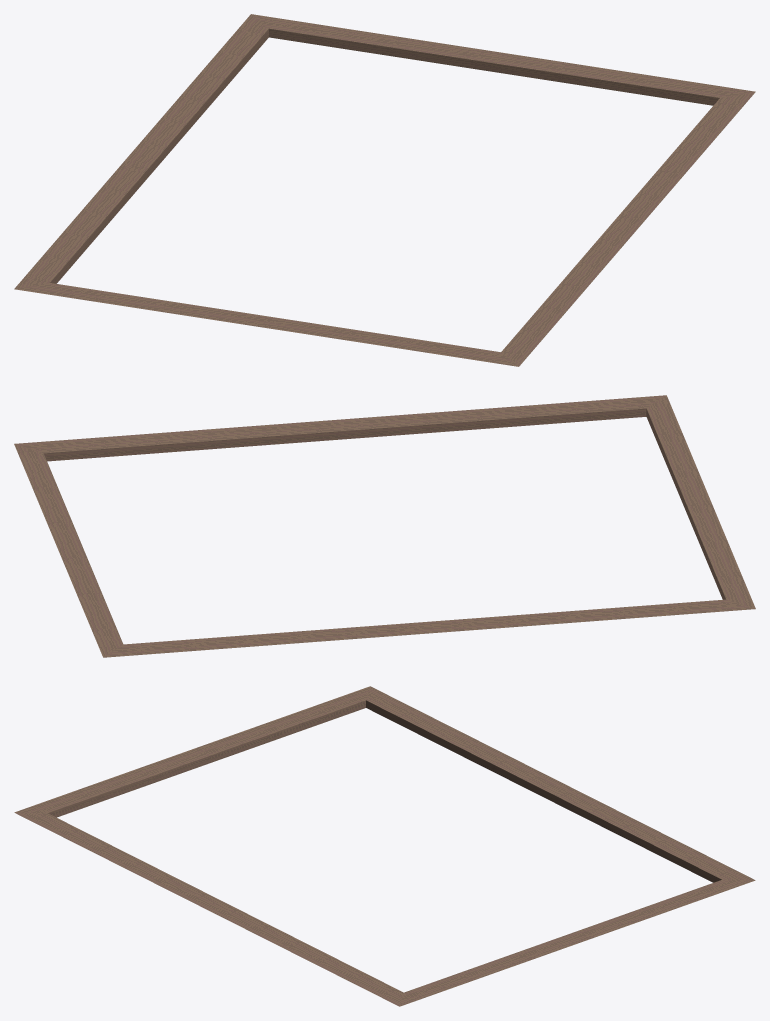
File: kd_connection_town-ground_surface_3_14.glb
3 views of the same model, one above another, from view 1: azimuth 30°, elevation 25°; view 2: azimuth 150°, elevation 25°; view 3: azimuth 270°, elevation 25° (orthographic). The views are drawn at different scales.
Visible parts, largest first — view 1: kd_connection_town-ground_surface_3_14; view 2: kd_connection_town-ground_surface_3_14; view 3: kd_connection_town-ground_surface_3_14.
Boxes of the visible parts, bbox=[...] form: kd_connection_town-ground_surface_3_14: bbox=[14, 14, 755, 366]; kd_connection_town-ground_surface_3_14: bbox=[14, 395, 755, 657]; kd_connection_town-ground_surface_3_14: bbox=[14, 686, 755, 1006].
Size of the model in its own units: 2.74 by 0.03 by 2.68.
1 material, 1 textured.
